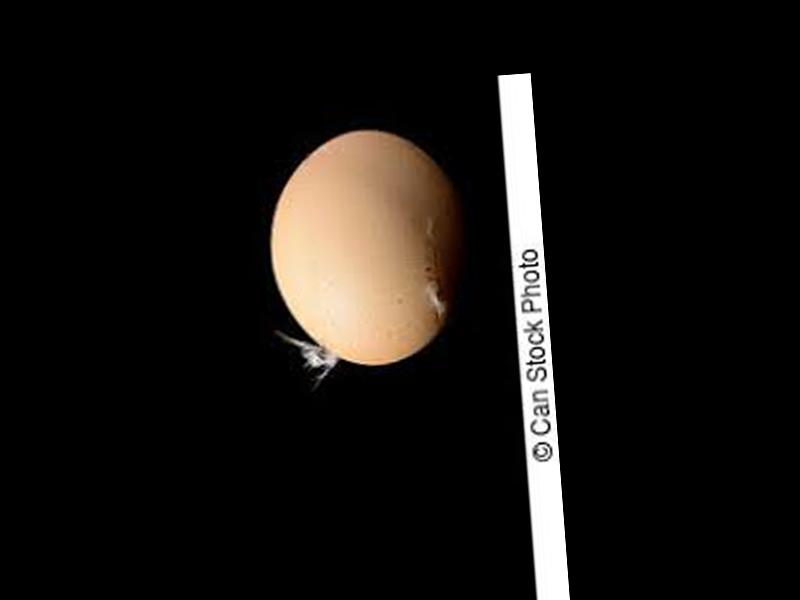Eggs: (264, 122, 474, 372)
